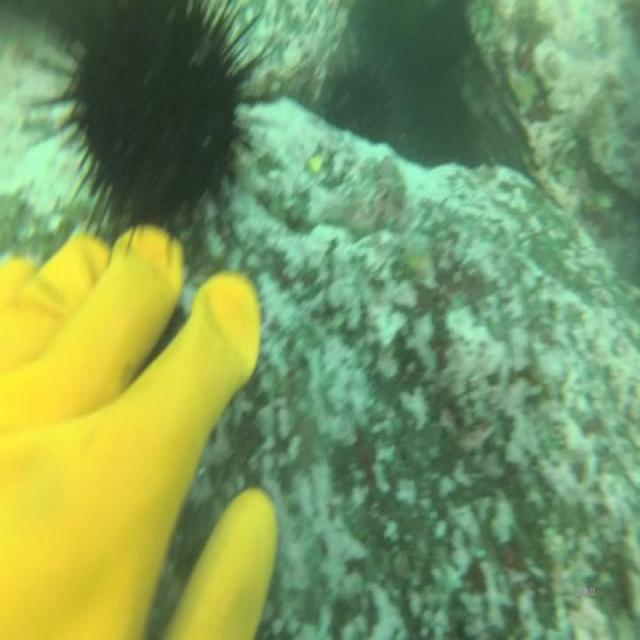echinus: (66, 2, 242, 238), (323, 58, 392, 147)
